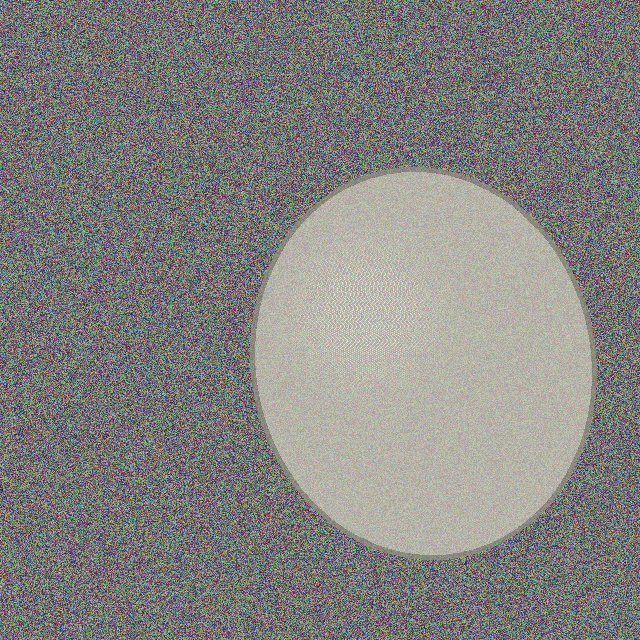lens: (252, 170, 594, 556)
